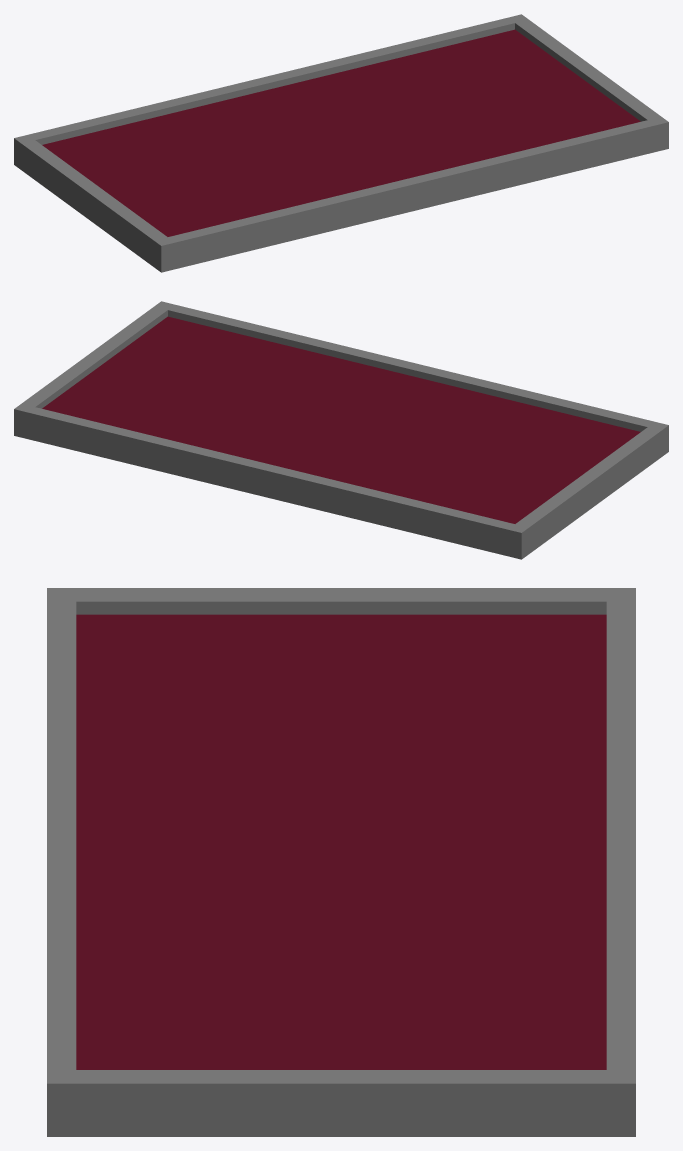
Rendered from Platform 2.fbx.
The picture shows the model from 3 angles, top to bottom: view 1: azimuth 30°, elevation 25°; view 2: azimuth 150°, elevation 25°; view 3: azimuth 270°, elevation 25°; orthographic projection. The views are drawn at different scales.
Parts seen in each view (by area): view 1: Long Platform; view 2: Long Platform; view 3: Long Platform.
Boxes of the visible parts, x1,y1,x2,y2 form: Long Platform: (14, 14, 668, 272); Long Platform: (14, 301, 668, 559); Long Platform: (47, 588, 635, 1136).
Size of the model in its own units: 39.79 by 20 by 2.
